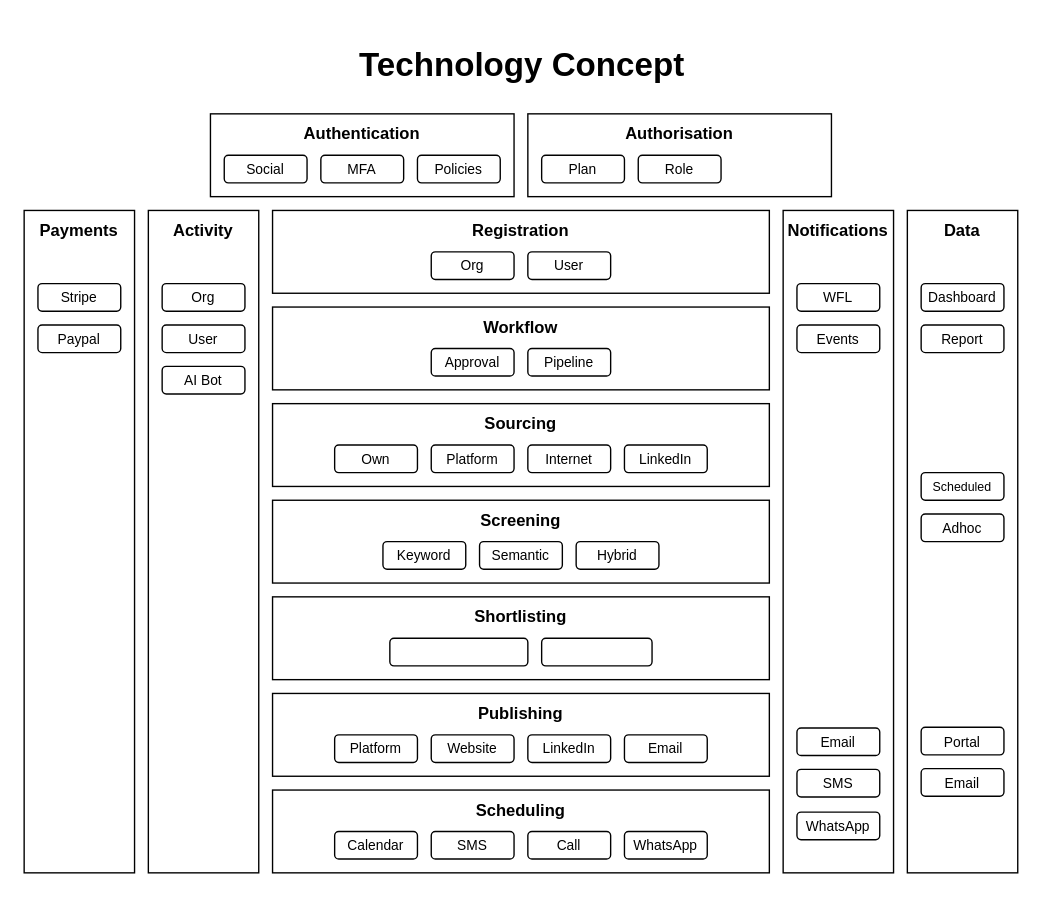
The diagram is 1042 pixels wide and 897 high, and some of its shapes have lost their labels. The box of each missing label's shape, as (x1, y1, x2, y2) in pixels:
Assessment: (540, 637, 652, 666)
Interest Check: (388, 637, 528, 666)
